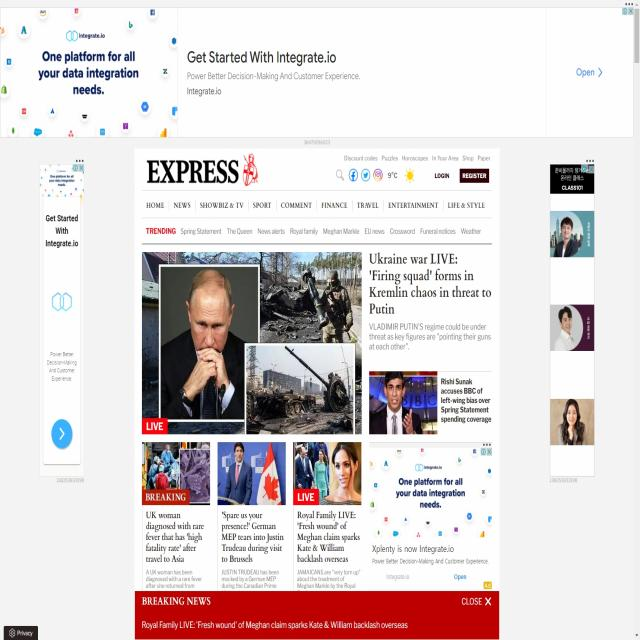menu-bar: (347, 162, 493, 184)
menu-panel: (143, 187, 491, 221)
